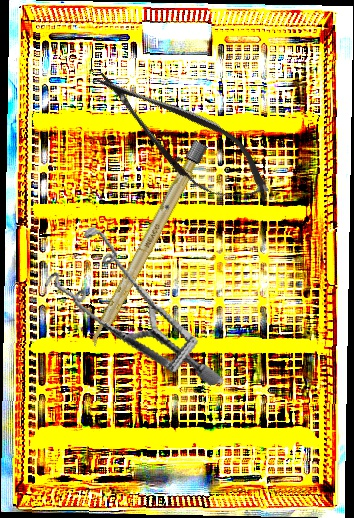Micro Scissor: (78, 49, 285, 225)
Scalpel Handle: (87, 139, 208, 350)
Speculum: (32, 203, 225, 423)
